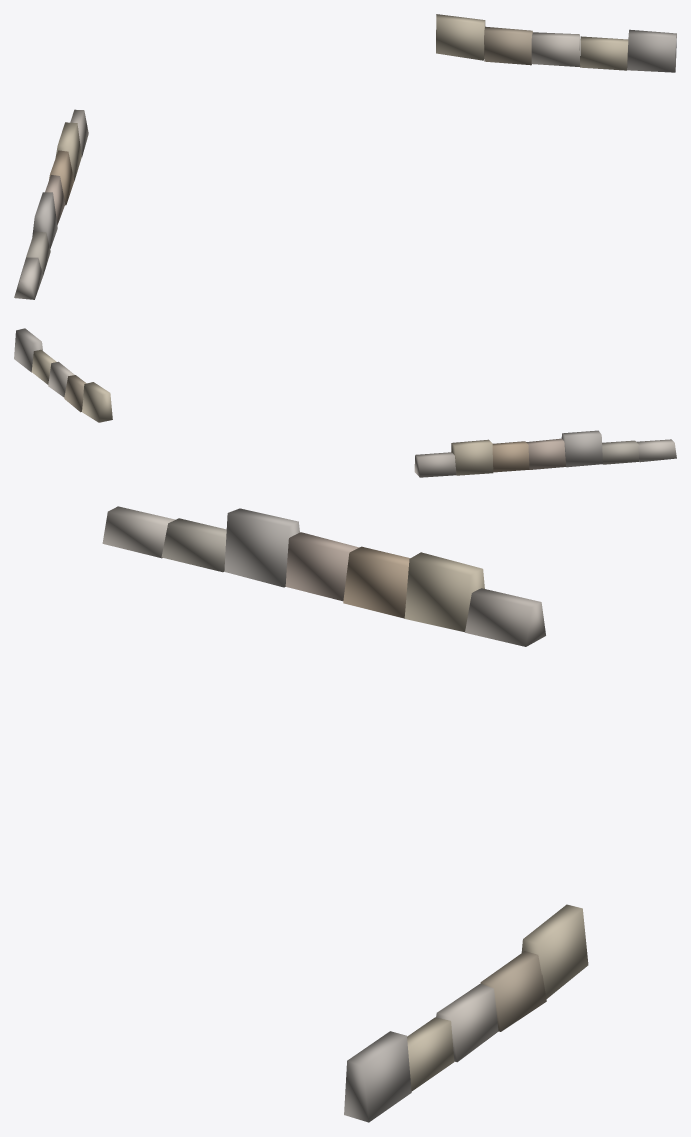
File: farm_-15_-22_far.glb
3 views of the same model, one above another, from view 1: azimuth 30°, elevation 25°; view 2: azimuth 150°, elevation 25°; view 3: azimuth 270°, elevation 25° (orthographic). The views are drawn at different scales.
Visible parts, largest first — view 1: geometry_0; view 2: geometry_0; view 3: geometry_0.
Part boxes in pixels (left/top/right/bottom): geometry_0: left=14, top=14, right=676, bottom=299; geometry_0: left=14, top=328, right=676, bottom=477; geometry_0: left=102, top=506, right=588, bottom=1122.
Bounding box in the file's own units: 28.32 × 2.14 × 9.91.
